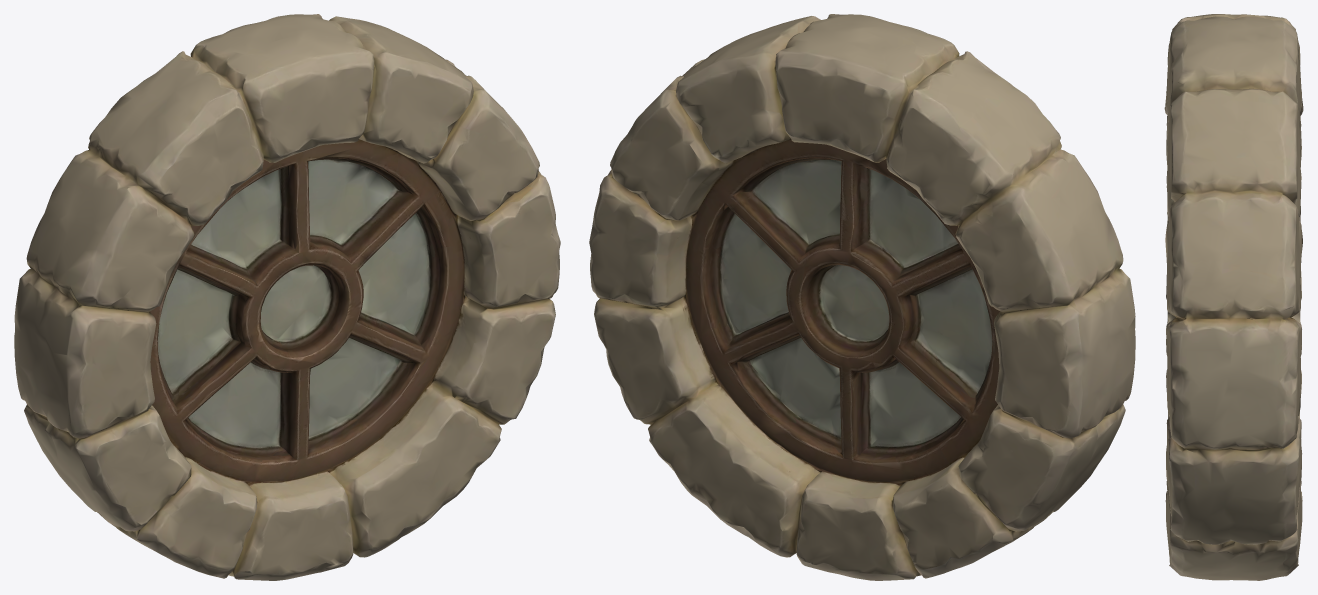
The model's file is mod_win_c.glb.
The picture shows the model from 3 angles, left to right: view 1: azimuth 30°, elevation 25°; view 2: azimuth 150°, elevation 25°; view 3: azimuth 270°, elevation 25°; orthographic projection. The views are drawn at different scales.
Parts seen in each view (by area): view 1: tripo_node_cef7f5ee-bf21-4395-8c64-92db3ded4ca1; view 2: tripo_node_cef7f5ee-bf21-4395-8c64-92db3ded4ca1; view 3: tripo_node_cef7f5ee-bf21-4395-8c64-92db3ded4ca1.
Part boxes in pixels (<box>): tripo_node_cef7f5ee-bf21-4395-8c64-92db3ded4ca1: <box>14,14,560,580</box>; tripo_node_cef7f5ee-bf21-4395-8c64-92db3ded4ca1: <box>589,14,1135,580</box>; tripo_node_cef7f5ee-bf21-4395-8c64-92db3ded4ca1: <box>1164,14,1303,580</box>.
Bounding box in the file's own units: 0.977 × 0.9814 × 0.2407.
Materials: 1 (1 with a texture image).
